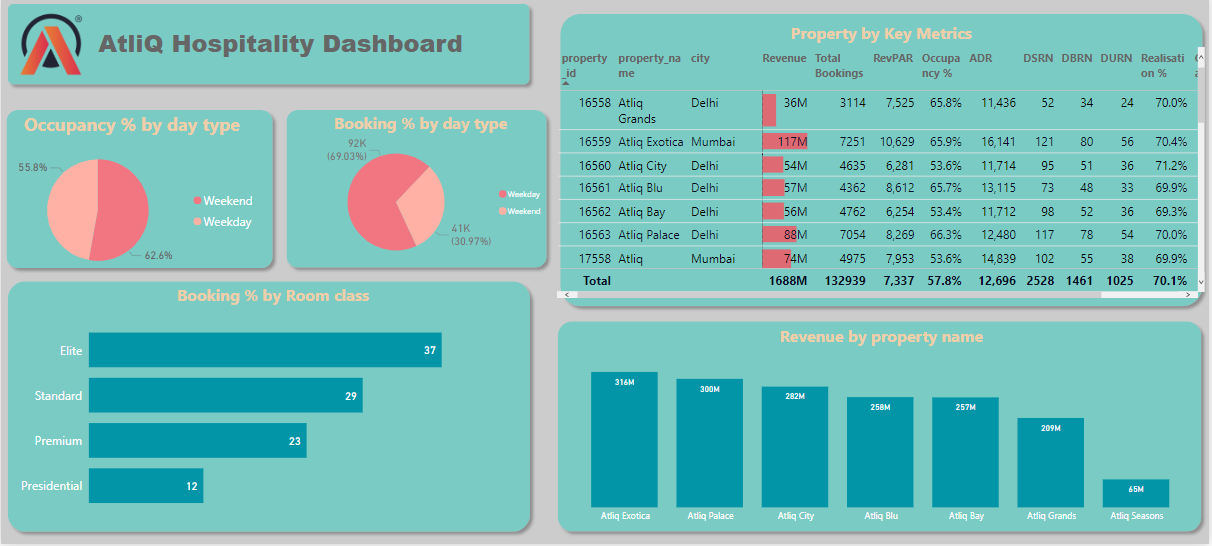

The dashboard page shown, as its layout file describes it:
{"tool":"powerbi","page":{"name":"Page 3","canvas":[1610,730],"ordinal":2},"visuals":[{"type":"shape","box":[736,14,874,408],"z":0},{"type":"shape","box":[-0.6,0,713.6,125.8],"z":1000},{"type":"image","box":[20.6,13.6,95.5,98.5],"z":2000},{"type":"textbox","box":[116,33.3,512.1,60.6],"z":3000},{"type":"shape","box":[734,424,876,298],"z":5000},{"type":"clusteredColumnChart","title":"Revenue by property name","fields":{"Y":["key_measures.Revenue"],"Category":["dim_hotels.property_name"]},"box":[736,436,874,274],"z":6000},{"type":"shape","box":[-1.4,141.4,372.7,228.8],"z":7000},{"type":"pieChart","title":"Occupancy % by day type","fields":{"Y":["key_measures.Occupancy %"],"Category":["dim_date.day type"]},"box":[-1.1,152.8,352,230],"z":8000},{"type":"shape","box":[371.7,141.7,365,228.3],"z":9000},{"type":"pieChart","title":"Booking % by day type","fields":{"Y":["key_measures.Total Bookings"],"Series":["dim_date.day type"]},"box":[385,153.3,348.3,211.7],"z":10000},{"type":"tableEx","title":"Property by Key Metrics","fields":{"Values":["dim_hotels.property_id","dim_hotels.property_name","dim_hotels.city","key_measures.Revenue","key_measures.Total Bookings","key_measures.Rev Par","key_measures.Occupancy %","key_measures.ADR","key_measures.DSRN","key_measures.DBRN","key_measures.DURN","key_measures.Realisation %"]},"box":[736.7,33.3,873.3,373.3],"z":11000},{"type":"shape","box":[0,370,714,352],"z":12000},{"type":"clusteredBarChart","title":"Booking % by Room class ","fields":{"Category":["dim_rooms.room_class"],"Y":["key_measures.Booking % by Room class"]},"box":[14,382,698,324],"z":13000}]}

Visuals, with their boxes in screenshot pixels (x1, y1, x2, y2), scaled from the page's 1610x730 canvas onto the 1212x546 screenshot:
shape: (left=554, top=10, right=1211, bottom=316)
shape: (left=0, top=0, right=537, bottom=94)
image: (left=16, top=10, right=87, bottom=84)
textbox: (left=87, top=25, right=473, bottom=70)
shape: (left=553, top=317, right=1211, bottom=540)
"Revenue by property name" clusteredColumnChart: (left=554, top=326, right=1211, bottom=531)
shape: (left=0, top=106, right=280, bottom=277)
"Occupancy % by day type" pieChart: (left=0, top=114, right=264, bottom=286)
shape: (left=280, top=106, right=555, bottom=277)
"Booking % by day type" pieChart: (left=290, top=115, right=552, bottom=273)
"Property by Key Metrics" tableEx: (left=555, top=25, right=1211, bottom=304)
shape: (left=0, top=277, right=537, bottom=540)
"Booking % by Room class " clusteredBarChart: (left=11, top=286, right=536, bottom=528)
